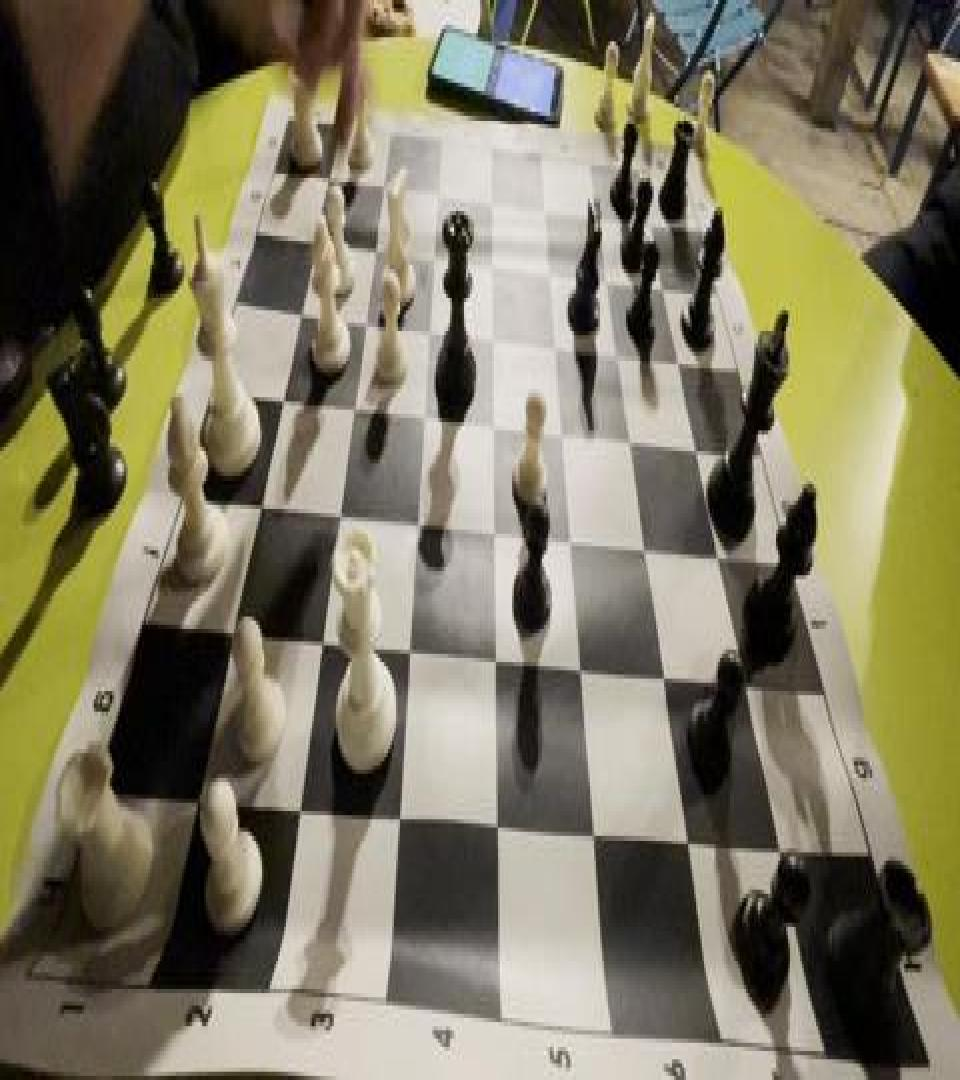xcorner: (585, 194, 605, 236), (532, 186, 552, 228), (371, 163, 391, 205), (317, 157, 337, 199), (593, 254, 613, 296), (536, 248, 556, 290), (363, 223, 383, 265), (304, 215, 324, 257), (665, 335, 685, 377), (479, 310, 499, 352), (416, 302, 436, 344), (288, 285, 308, 327), (684, 422, 704, 464), (548, 403, 568, 445), (479, 395, 499, 437), (340, 376, 360, 418), (270, 368, 290, 410), (706, 525, 726, 567), (631, 517, 651, 559), (403, 488, 423, 530), (649, 645, 669, 687), (565, 635, 585, 677), (394, 616, 414, 658), (307, 606, 327, 648), (767, 821, 787, 863), (480, 788, 500, 830), (184, 757, 204, 799), (637, 201, 657, 242), (478, 180, 498, 221), (425, 172, 445, 213), (650, 263, 670, 304), (479, 240, 499, 281), (421, 232, 441, 273), (604, 327, 624, 368), (541, 319, 561, 360), (352, 294, 372, 335), (616, 414, 636, 455), (410, 387, 430, 428), (555, 507, 575, 548), (479, 499, 499, 540), (325, 480, 345, 521), (247, 470, 267, 511), (733, 656, 753, 697), (480, 627, 500, 668), (219, 596, 239, 637), (673, 811, 693, 852), (577, 801, 597, 842), (382, 778, 402, 819), (283, 768, 303, 809)
